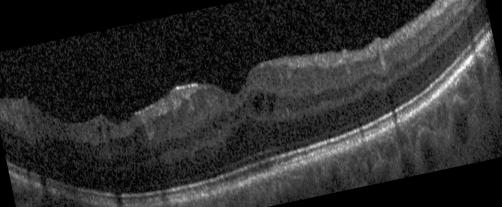intraretinal_cyst: (252, 90, 265, 112), (267, 94, 276, 111), (212, 119, 217, 129)
